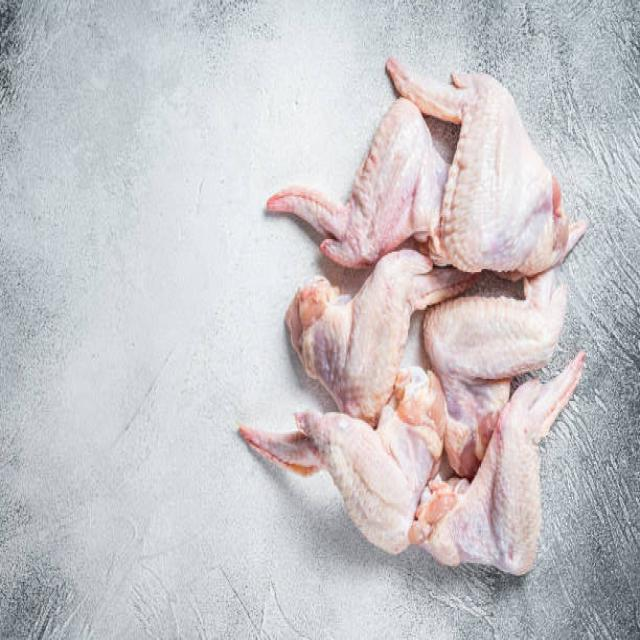Chicken Wing: (435, 68, 591, 273), (231, 404, 422, 555), (421, 391, 560, 584), (266, 101, 439, 253), (278, 252, 419, 407)
